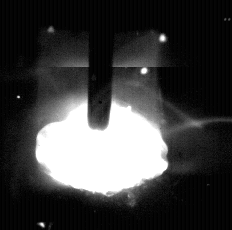arame: (88, 0, 113, 130)
poca: (36, 0, 167, 230)
